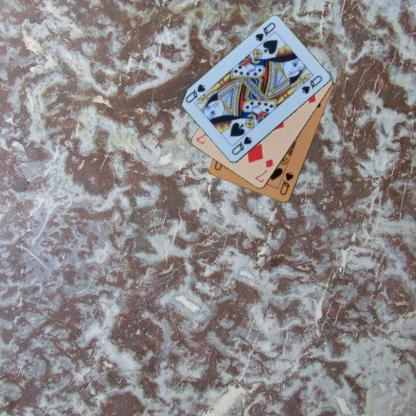7d: (252, 157, 275, 184)
Qs: (229, 134, 253, 157), (252, 20, 277, 42), (278, 169, 296, 197)
